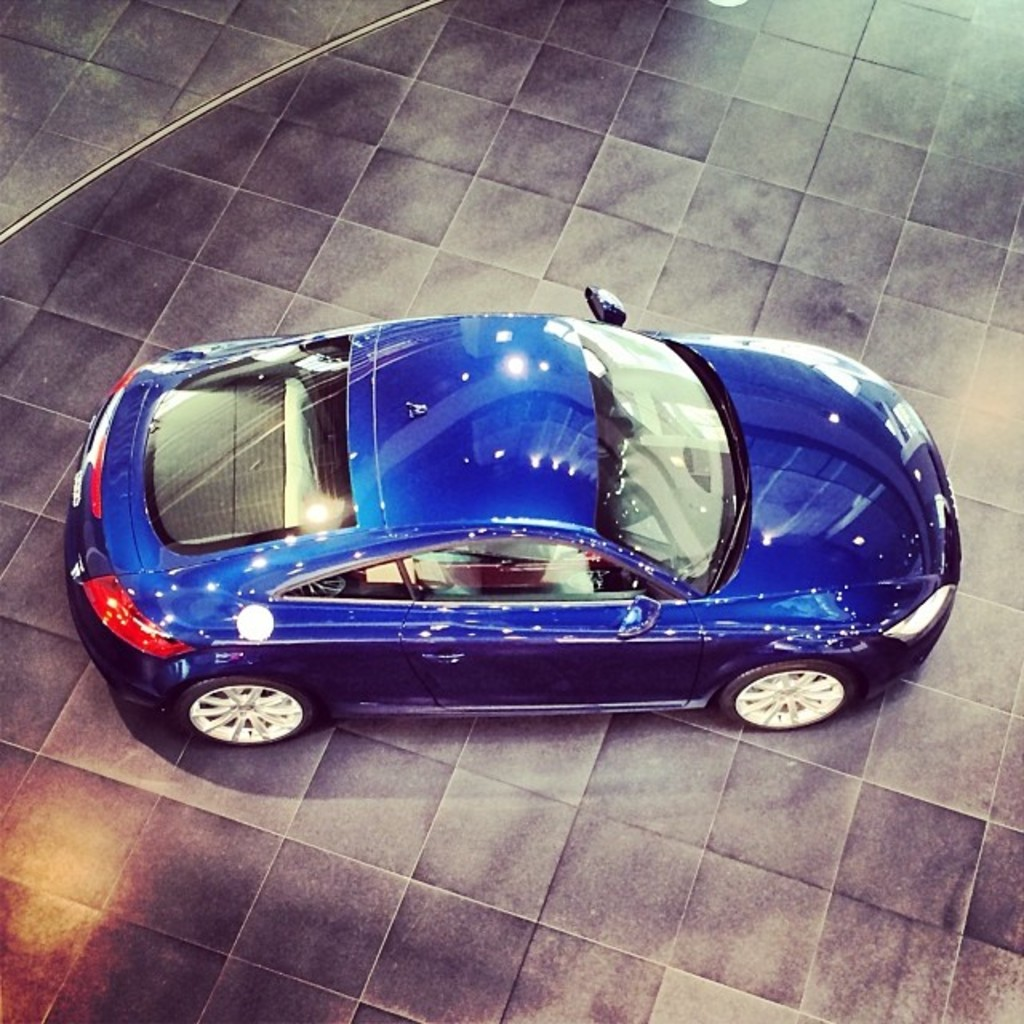mobil: (47, 331, 972, 741)
